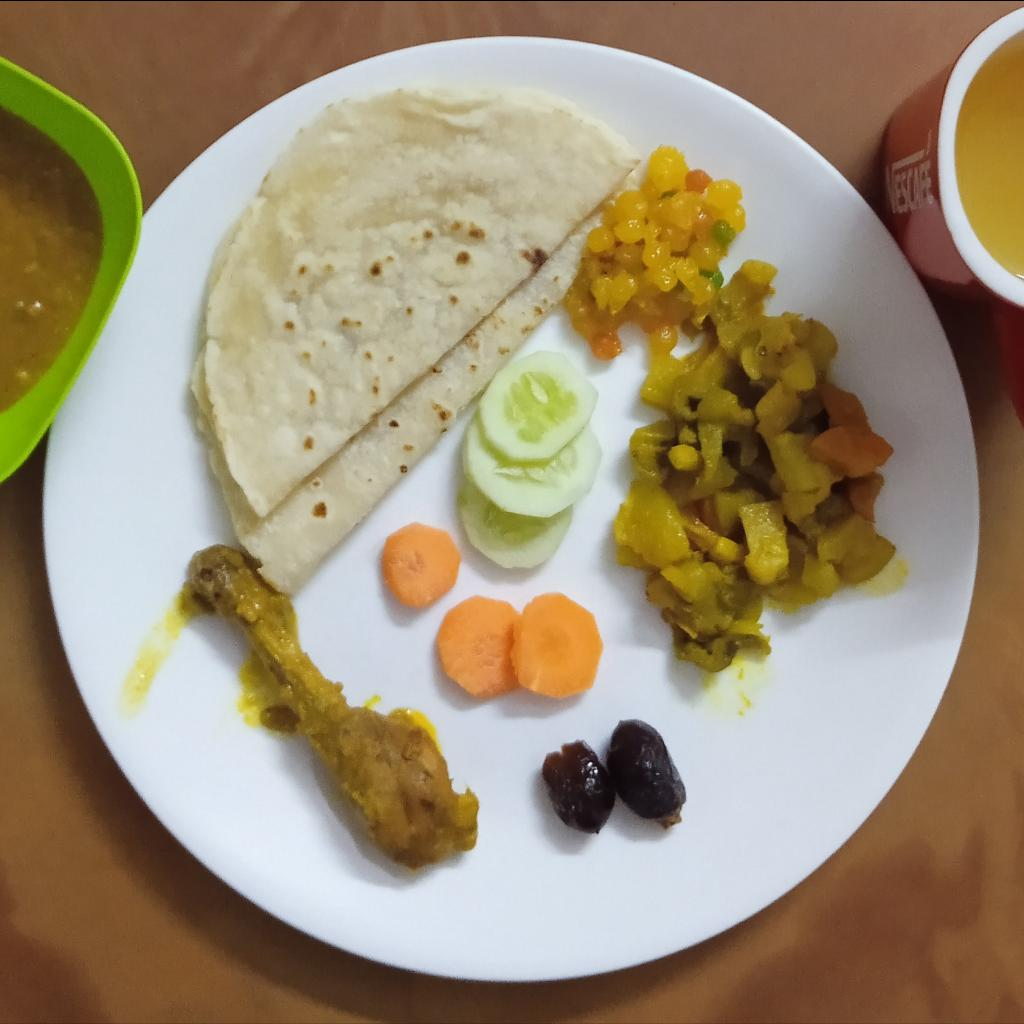burinda: (563, 145, 749, 361)
carrot: (436, 590, 604, 700), (381, 520, 460, 608)
chicken: (187, 541, 481, 875)
cucumber: (457, 350, 603, 569)
daal: (1, 108, 103, 414)
dates: (541, 717, 687, 834)
juice: (955, 30, 1024, 280)
ruti: (191, 86, 643, 604)
vegetable: (612, 261, 897, 672)
